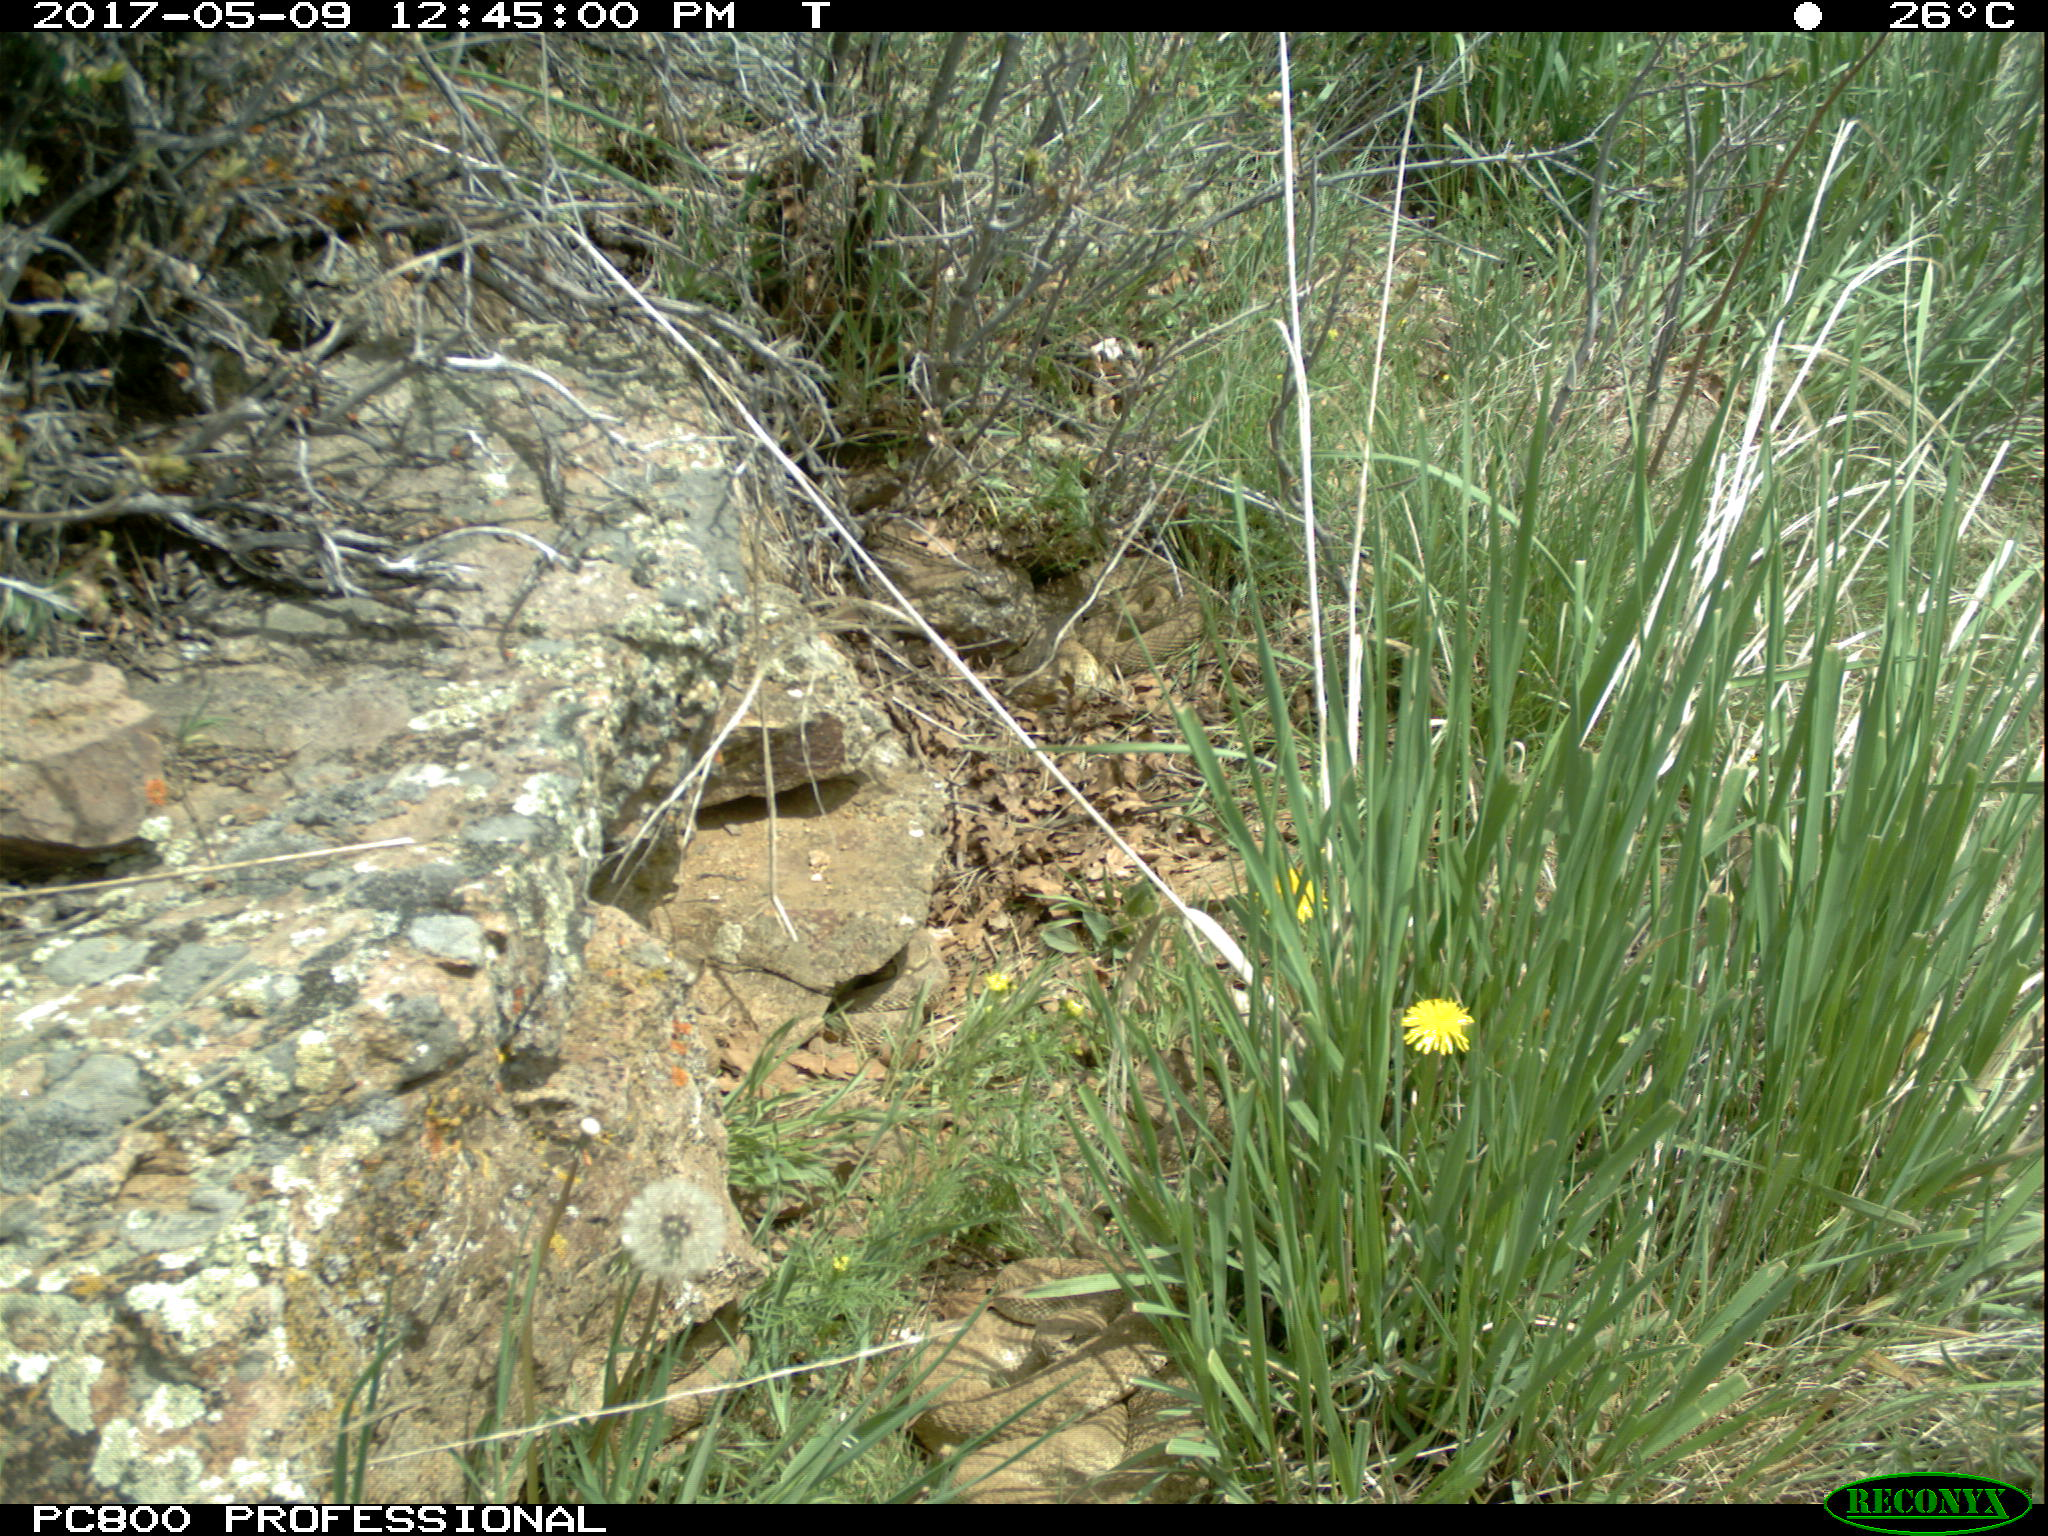snake: (901, 1250, 1208, 1507), (1064, 552, 1214, 671), (637, 1310, 747, 1425), (834, 952, 947, 1046)
